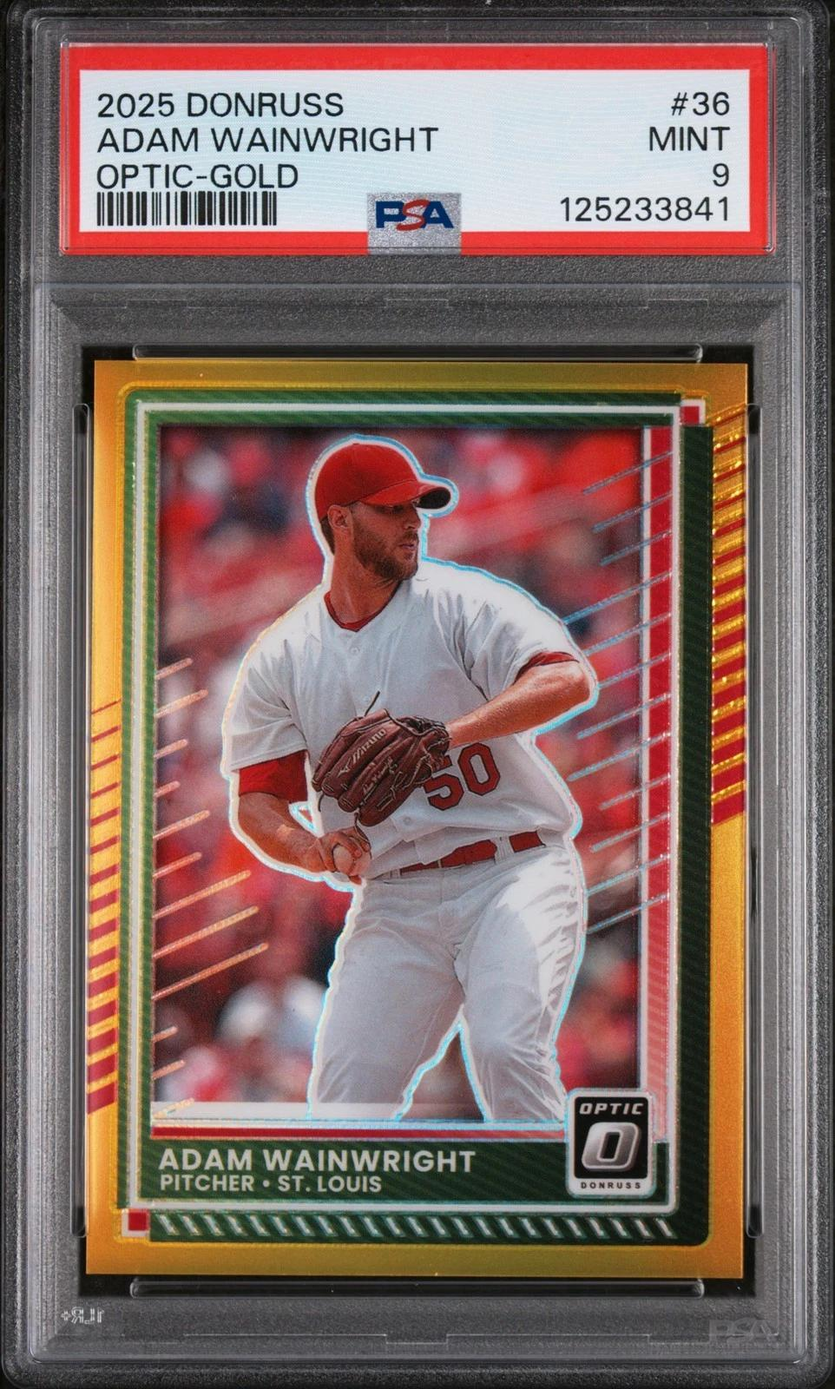card-2UtV: (84, 356, 749, 1281)
